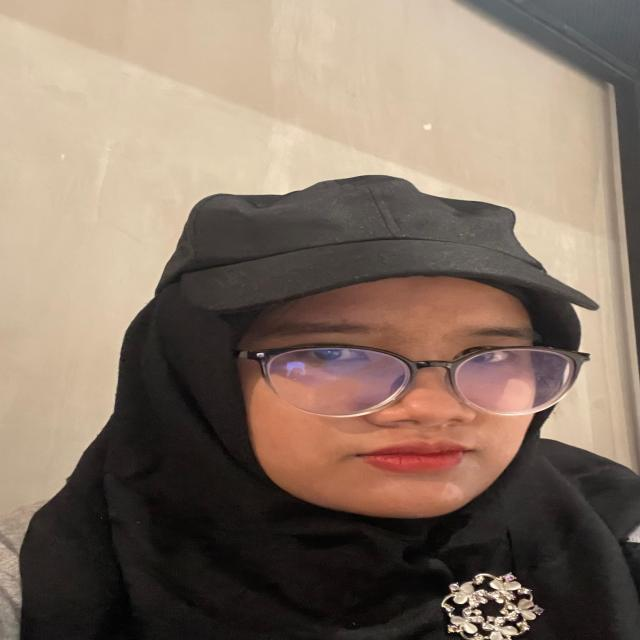3_gorra: (161, 170, 598, 322)
